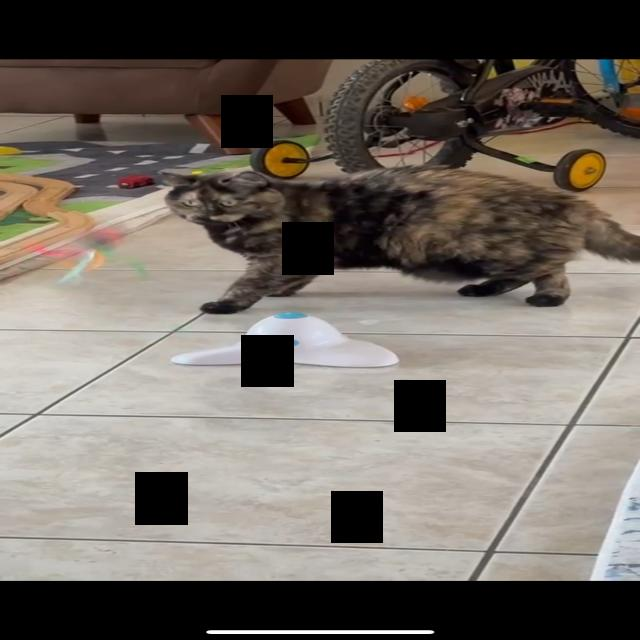authorized: (157, 164, 639, 314)
